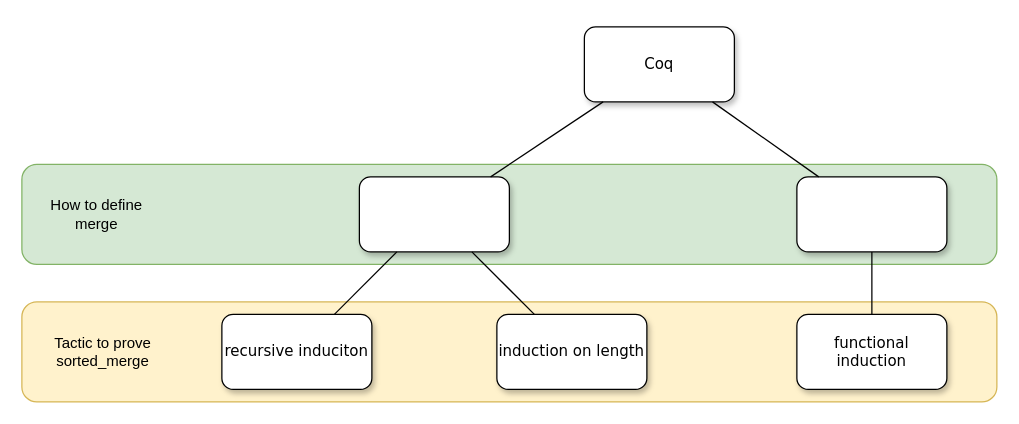
Image size: 1019x424. Some labels were removed from this diagram. The centre of each missing label's shape, as x and y in pixels:
"Fixpoint" belongs at (435,216).
"function" belongs at (872,216).
